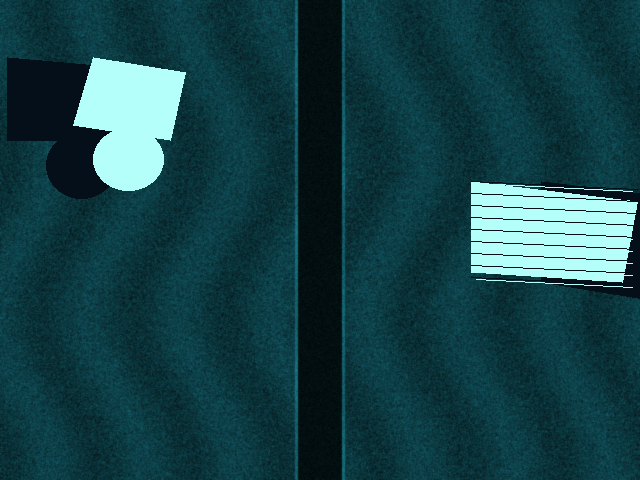Fishing Gear: (471, 181, 637, 282)
Plastic Debris: (93, 128, 163, 190)
Unknown Anomaly: (73, 57, 185, 140)
